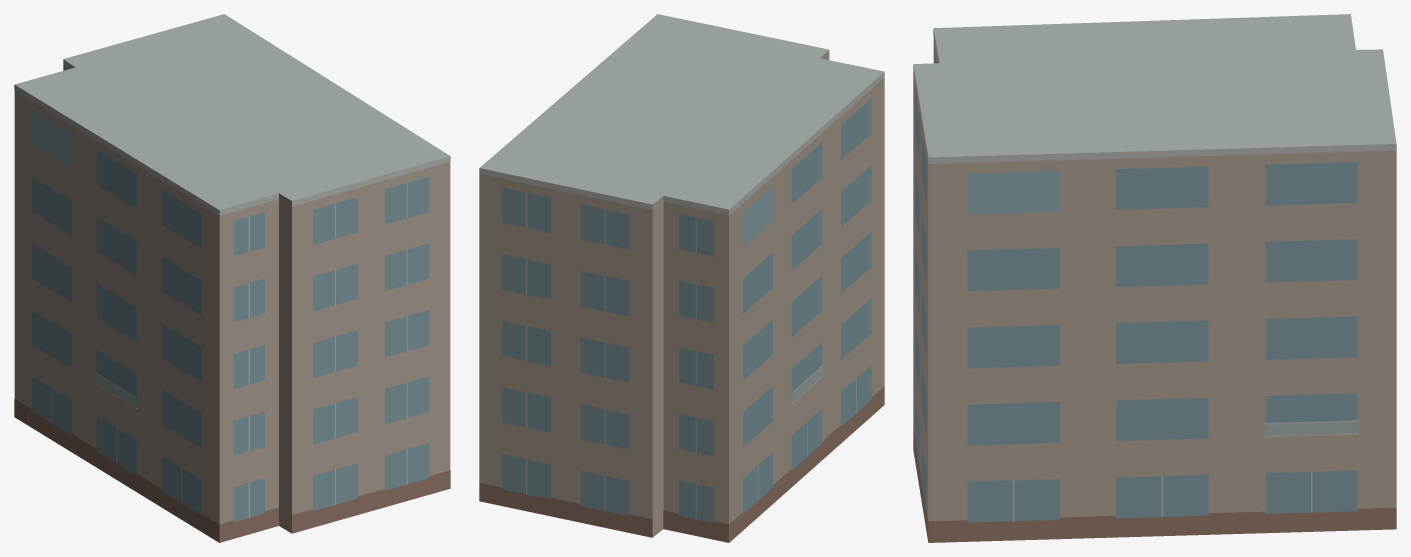
The model's file is survey-upis-32703353.glb.
3 renders of one model, left to right at view 1: azimuth 30°, elevation 25°; view 2: azimuth 150°, elevation 25°; view 3: azimuth 270°, elevation 25°, orthographic. The views are drawn at different scales.
Parts seen in each view (by area): view 1: survey-upis-32703353.tmp; view 2: survey-upis-32703353.tmp; view 3: survey-upis-32703353.tmp.
Part boxes in pixels (x1,y1,x2,y2): survey-upis-32703353.tmp: [14, 14, 450, 542]; survey-upis-32703353.tmp: [479, 14, 884, 542]; survey-upis-32703353.tmp: [913, 14, 1396, 542].
Size of the model in its own units: 11.35 by 14.2 by 16.14.
